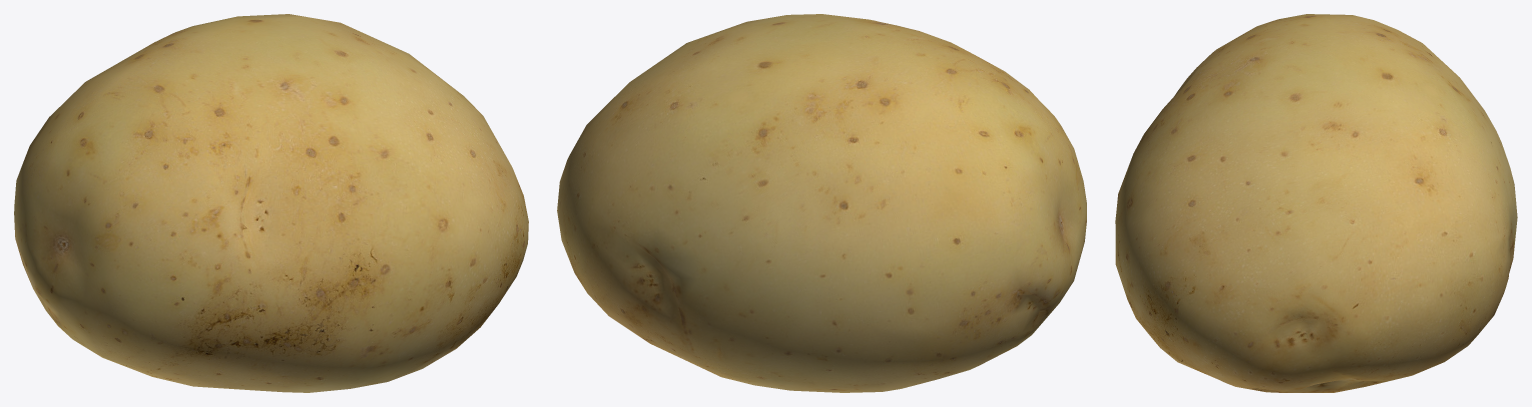
The model's file is WhitePotato.gltf.
The picture shows the model from 3 angles, left to right: view 1: azimuth 30°, elevation 25°; view 2: azimuth 150°, elevation 25°; view 3: azimuth 270°, elevation 25°; orthographic projection. The views are drawn at different scales.
Visible parts, largest first — view 1: _gltfNode_0; view 2: _gltfNode_0; view 3: _gltfNode_0.
Part boxes in pixels (bbox=[...]): _gltfNode_0: bbox=[14, 14, 528, 392]; _gltfNode_0: bbox=[557, 14, 1086, 392]; _gltfNode_0: bbox=[1115, 14, 1517, 392].
Bounding box in the file's own units: 0.0867 × 0.0572 × 0.0709.
1 material, 1 textured.
